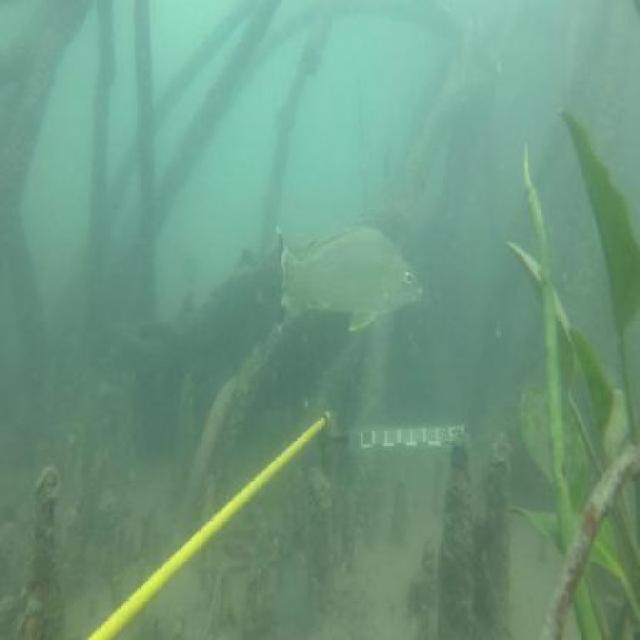Amniataba_caudivittatus: (273, 215, 425, 339)
